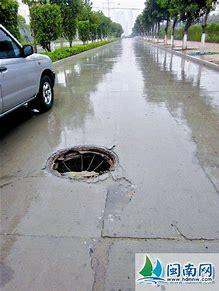wellcover: (45, 142, 125, 185)
